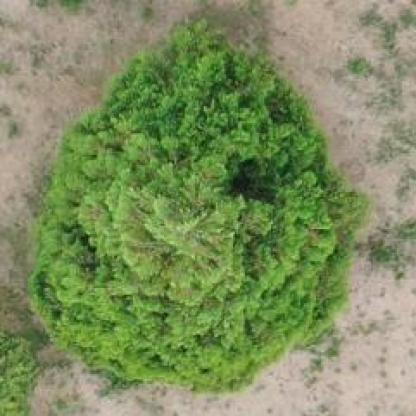Coniferous Tree: (30, 31, 358, 398)
